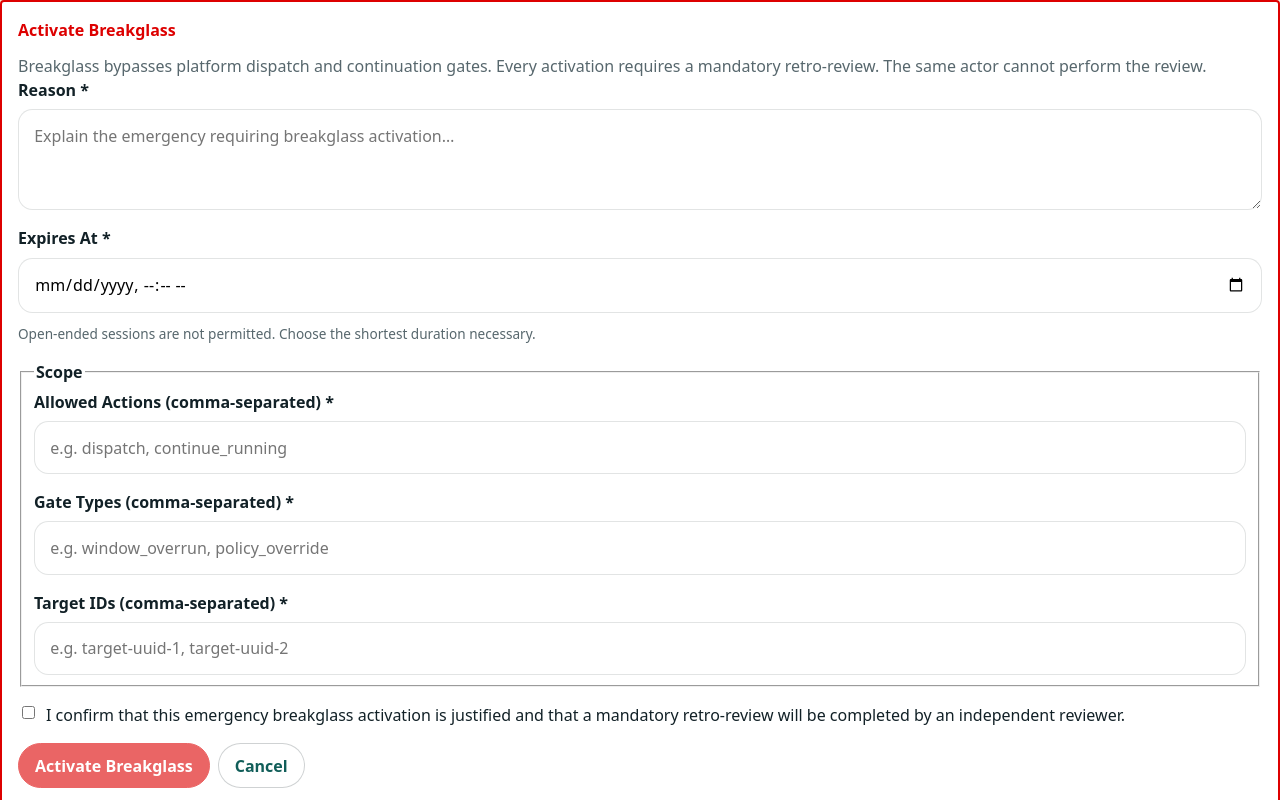
Test case: BreakglassActivationModal › rejects open-ended expiry (no expiry value)
The width and height of the screenshot is (1280, 800).
Step 1. Type "Emergency" into the text box labelled "Reason *" → (640, 160), box top-left (18, 109), bottom-right (1262, 210)
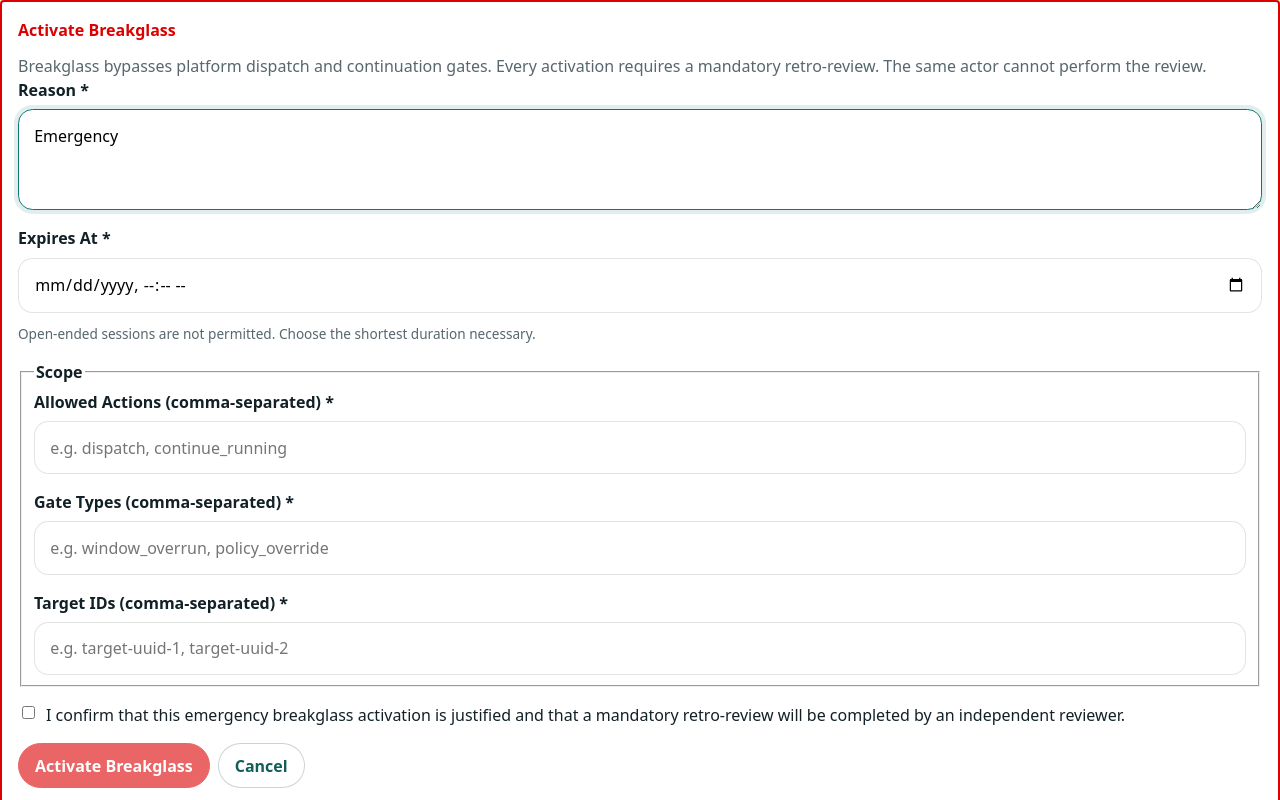
Step 2. Type "dispatch" into the field labelled "Allowed Actions (comma-separated) *" → (640, 448), box top-left (34, 421), bottom-right (1246, 474)
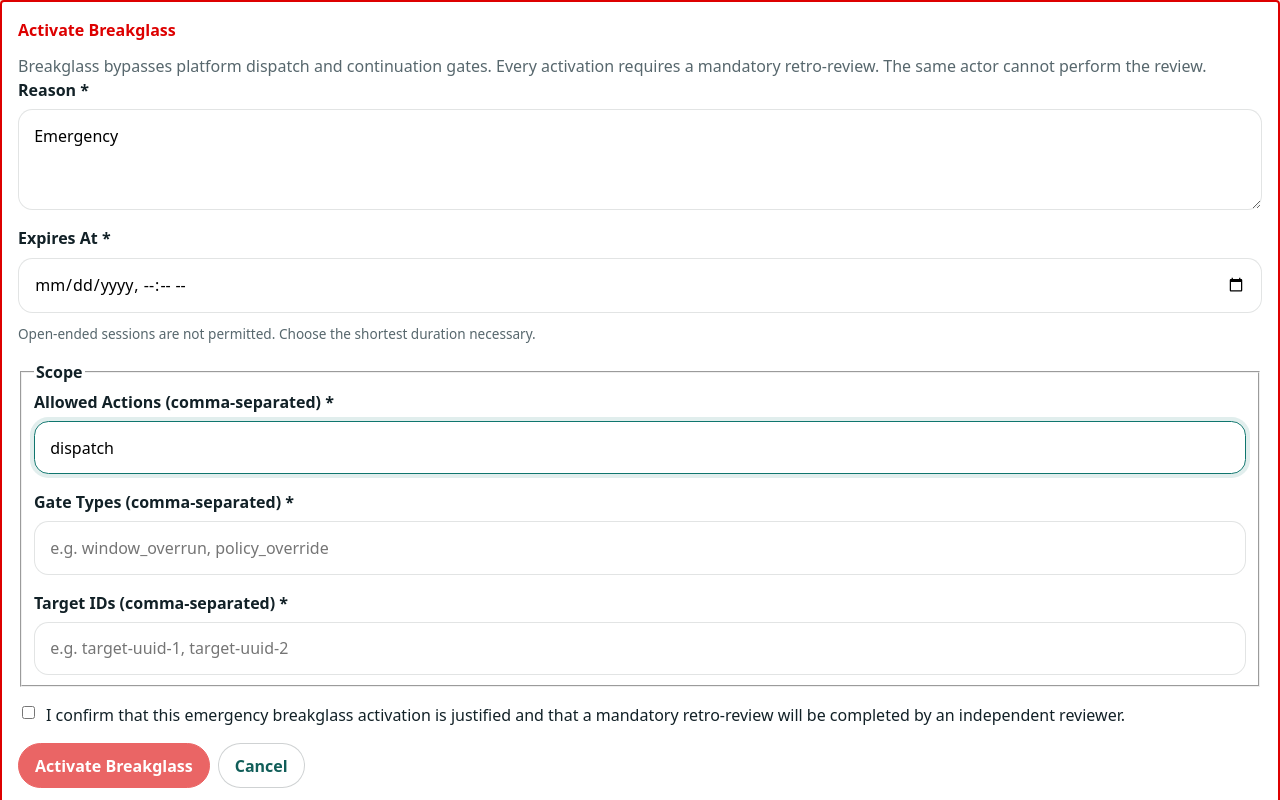
Step 3. Type "window_overrun" into the field labelled "Gate Types (comma-separated) *" → (640, 548), box top-left (34, 522), bottom-right (1246, 575)
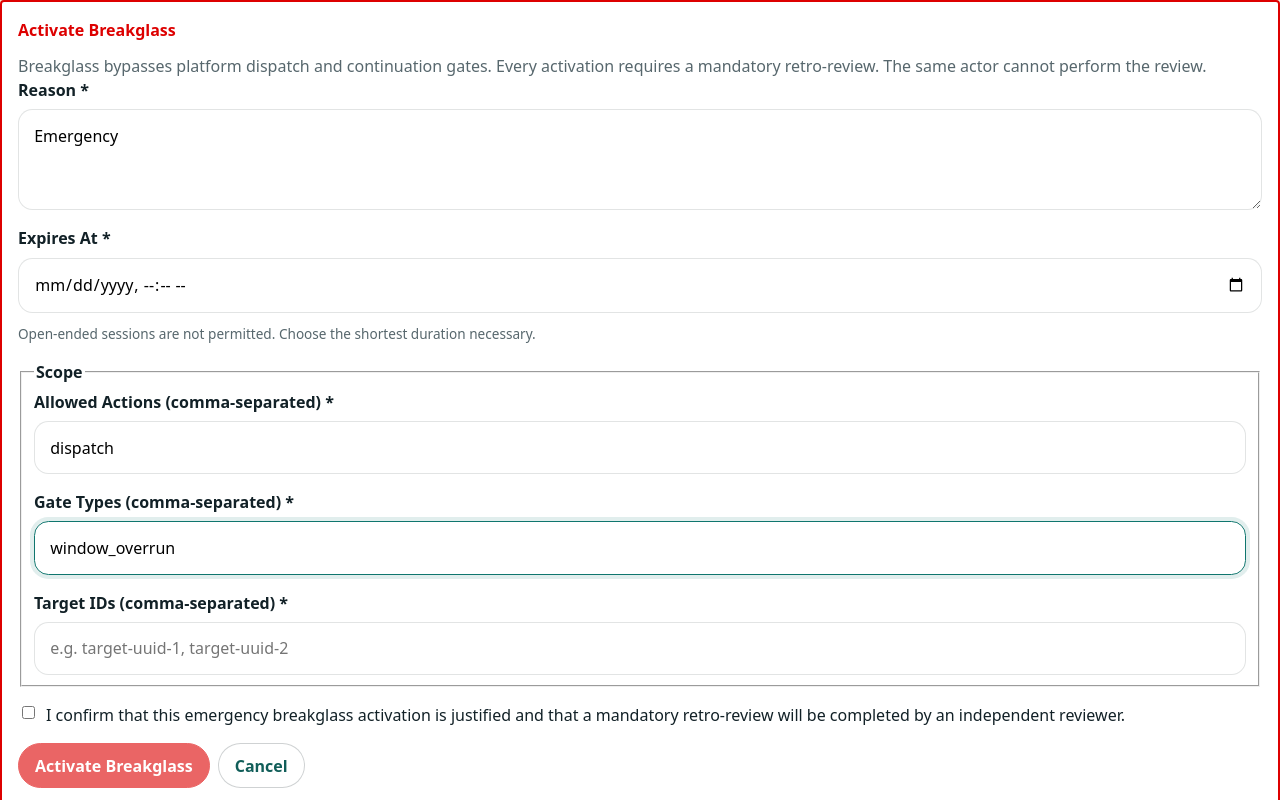
Step 4. Type "target-1" into the field labelled "Target IDs (comma-separated) *" → (640, 648), box top-left (34, 622), bottom-right (1246, 675)
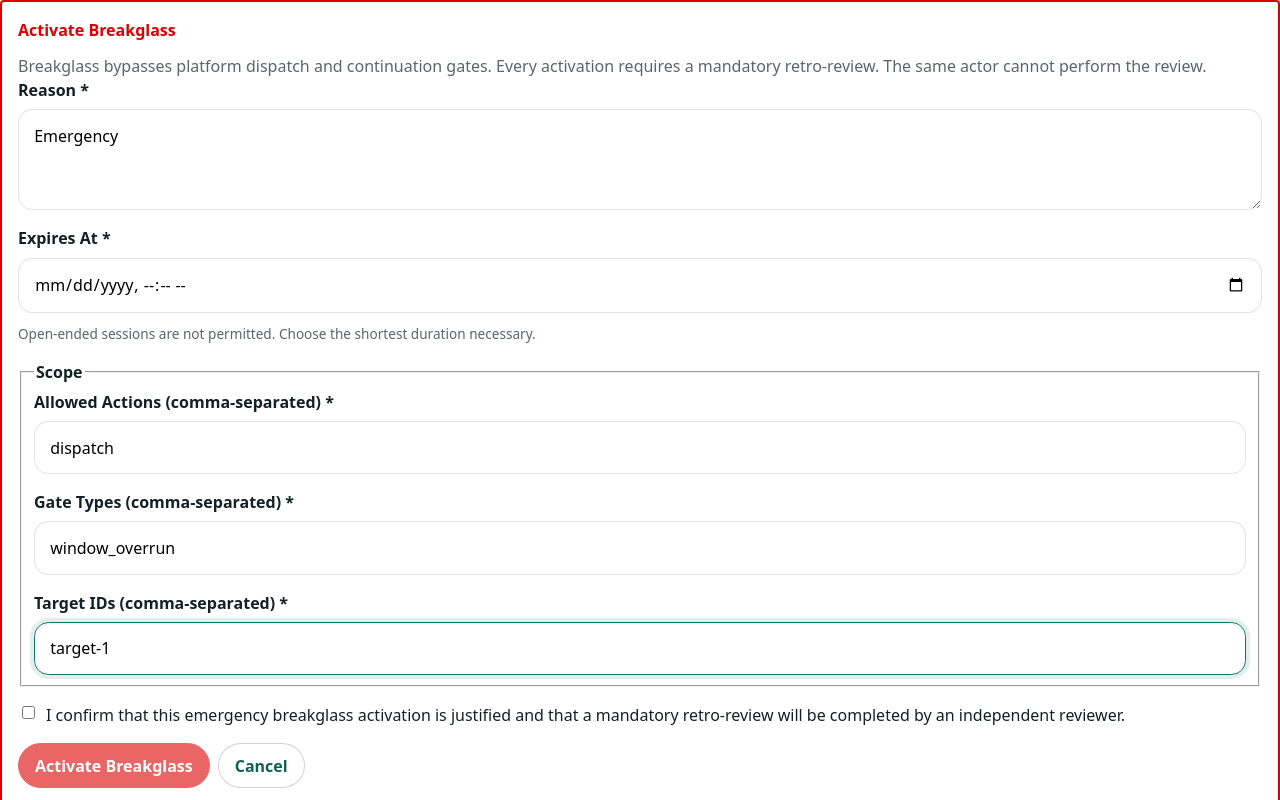
Step 5. Click the checkbox named "confirm breakglass activation" → (28, 712), box top-left (22, 706), bottom-right (35, 719)
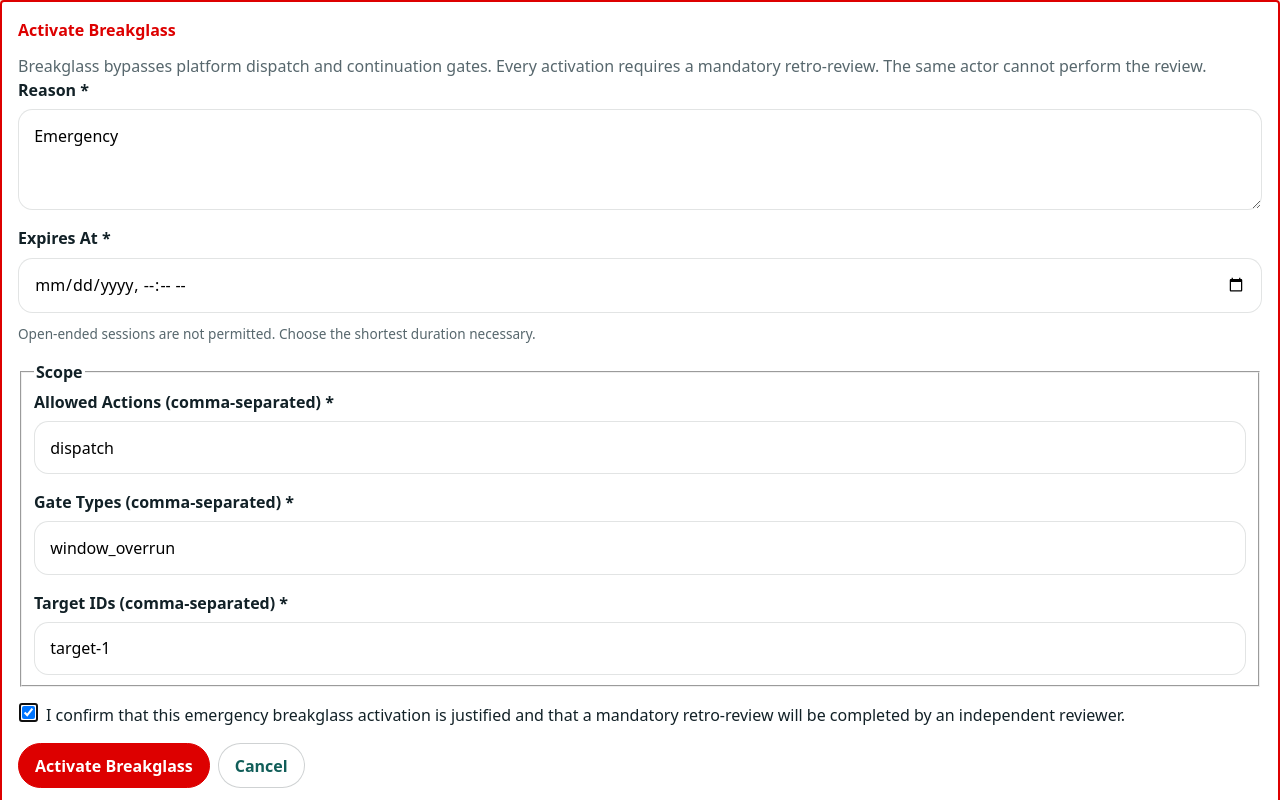
Step 6. Click the button "Activate Breakglass" → (114, 766), box top-left (18, 743), bottom-right (210, 788)
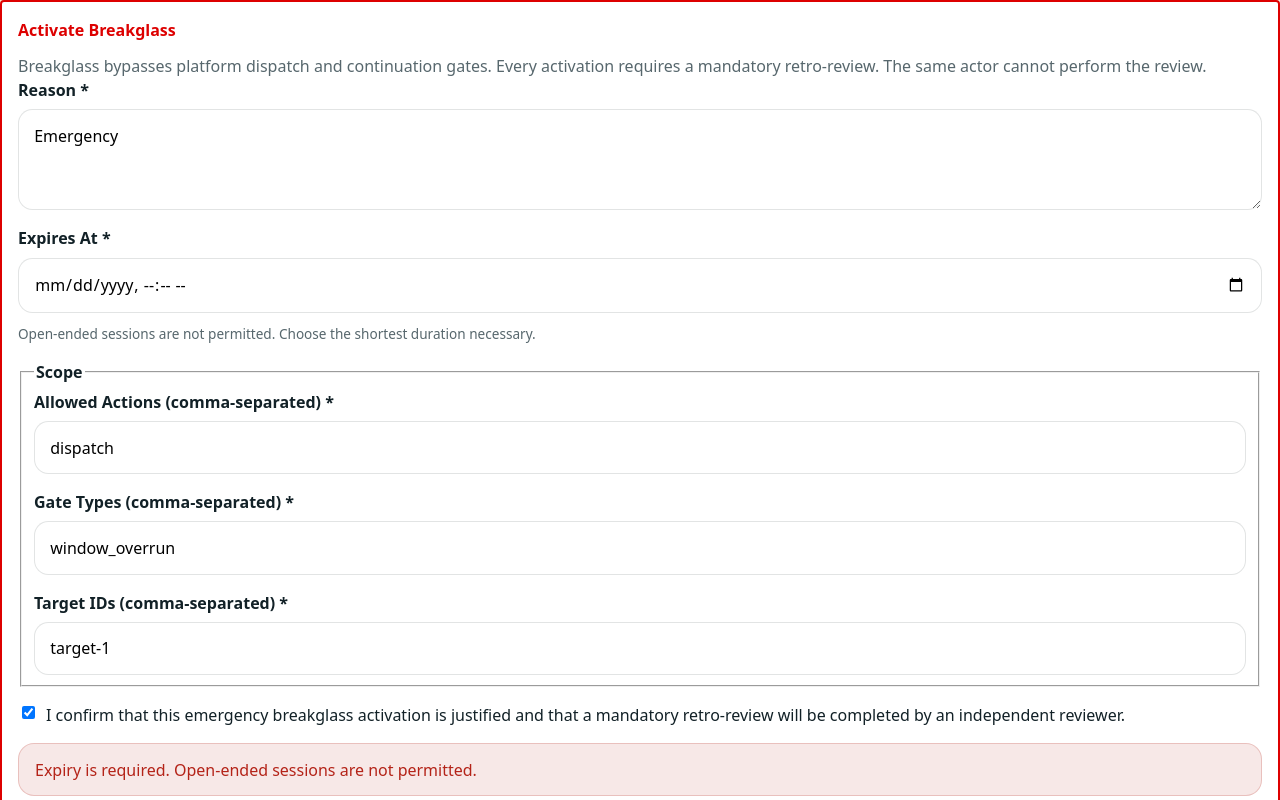
expect the text "Expiry is required. Open-ended sessions are not permitted." is shown: met, box top-left (18, 743), bottom-right (1262, 796)
